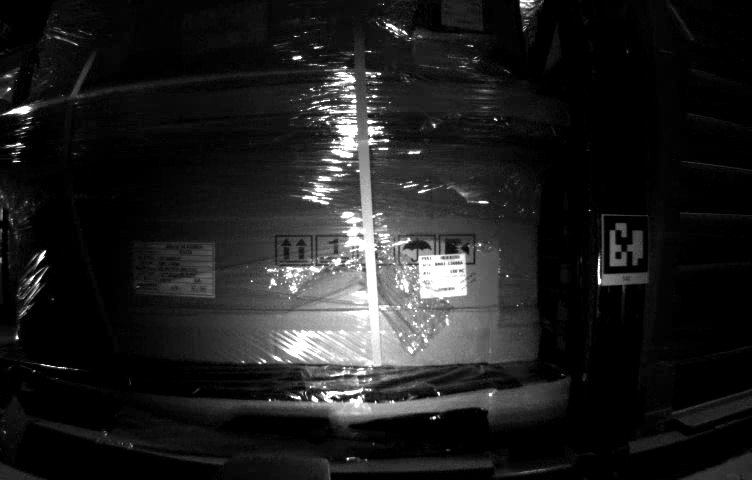True Barcode: (416, 253, 469, 298)
